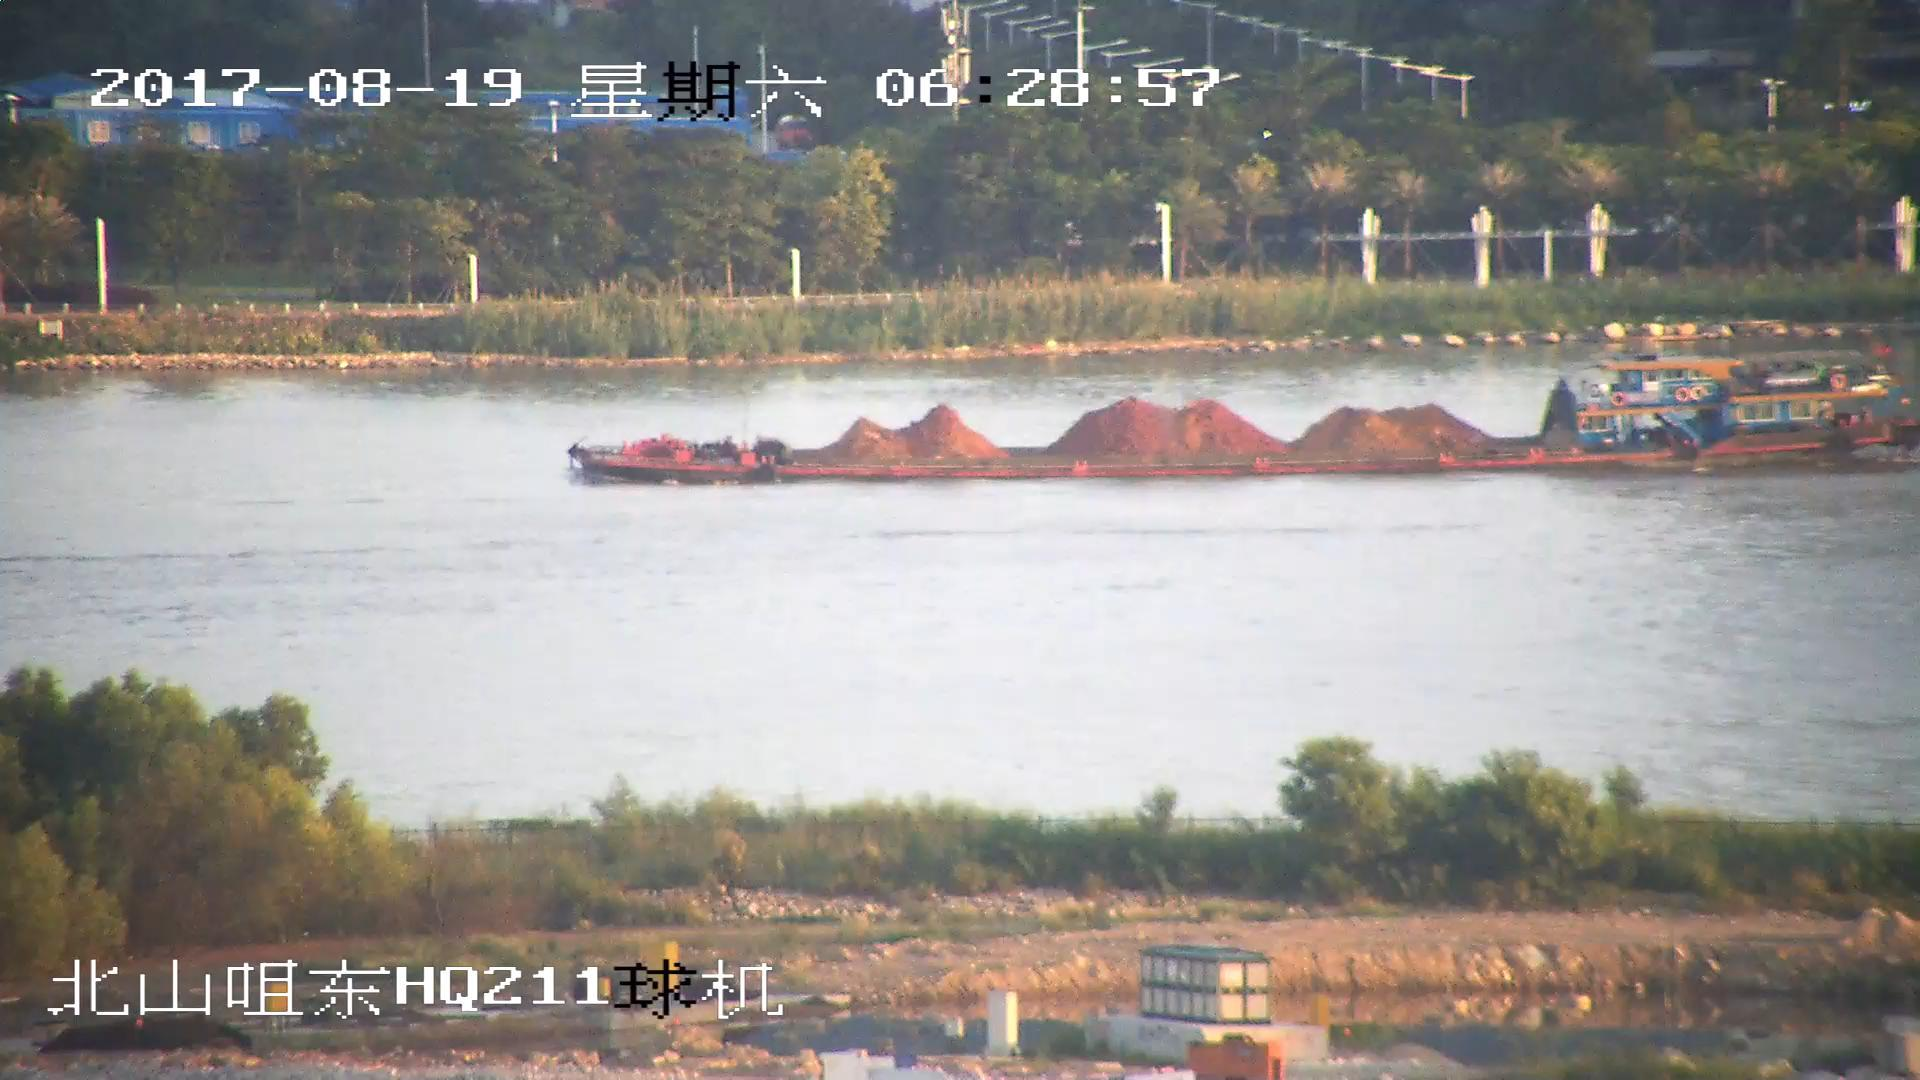Ship: (567, 349, 1920, 484)
